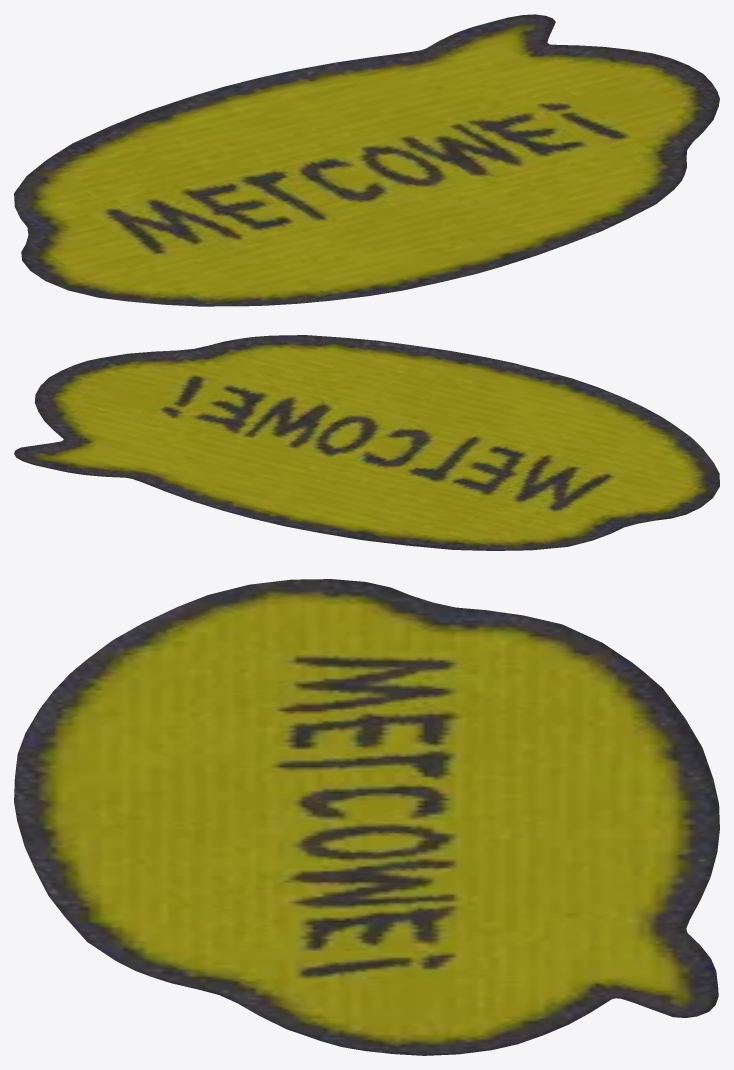
The model's file is yellow-message-mat.glb.
3 views of the same model, one above another, from view 1: azimuth 30°, elevation 25°; view 2: azimuth 150°, elevation 25°; view 3: azimuth 270°, elevation 25° (orthographic). The views are drawn at different scales.
Parts seen in each view (by area): view 1: RugOtherMessageS02_node1; view 2: RugOtherMessageS02_node1; view 3: RugOtherMessageS02_node1.
Part boxes in pixels (box(x1,y1,x2,y2)): RugOtherMessageS02_node1: box(14, 14, 719, 306); RugOtherMessageS02_node1: box(14, 335, 719, 550); RugOtherMessageS02_node1: box(14, 579, 719, 1055).
Bounding box in the file's own units: 15.89 × 0.03 × 9.94.
1 material, 1 textured.
